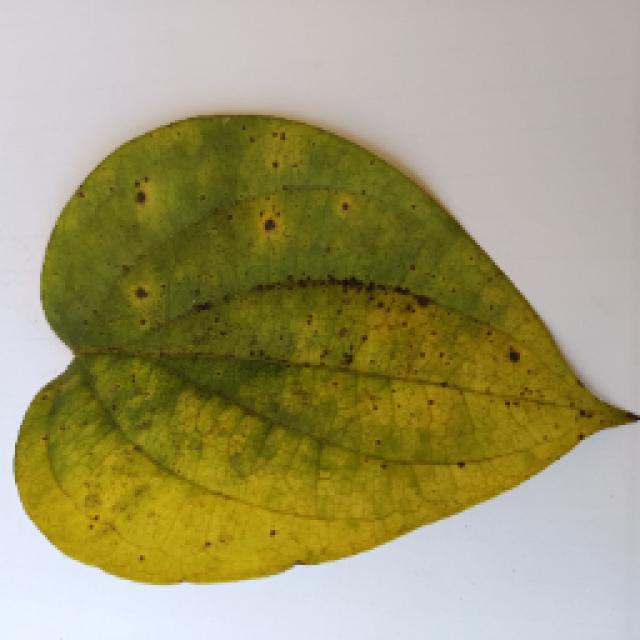slow-decline: (10, 132, 622, 608)
